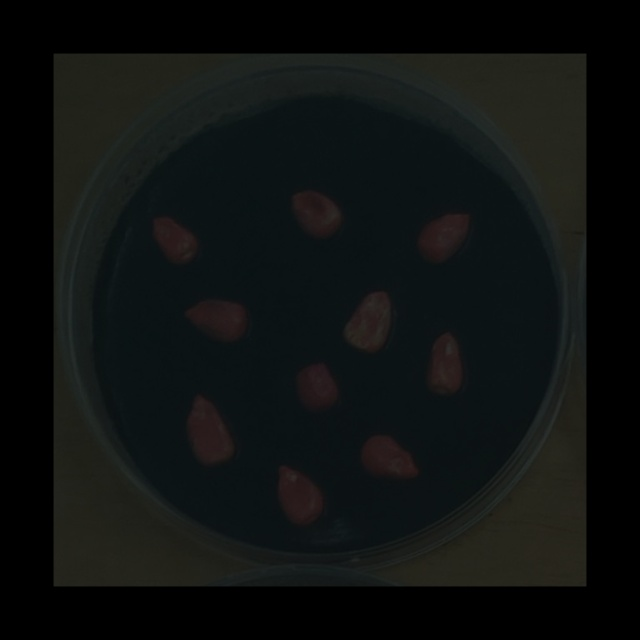Zea mays: (179, 389, 240, 474), (336, 284, 399, 361), (175, 293, 254, 351), (270, 459, 332, 532), (409, 206, 479, 270), (353, 428, 424, 485), (418, 326, 469, 404), (285, 184, 349, 245), (144, 209, 205, 270), (288, 356, 344, 421)
